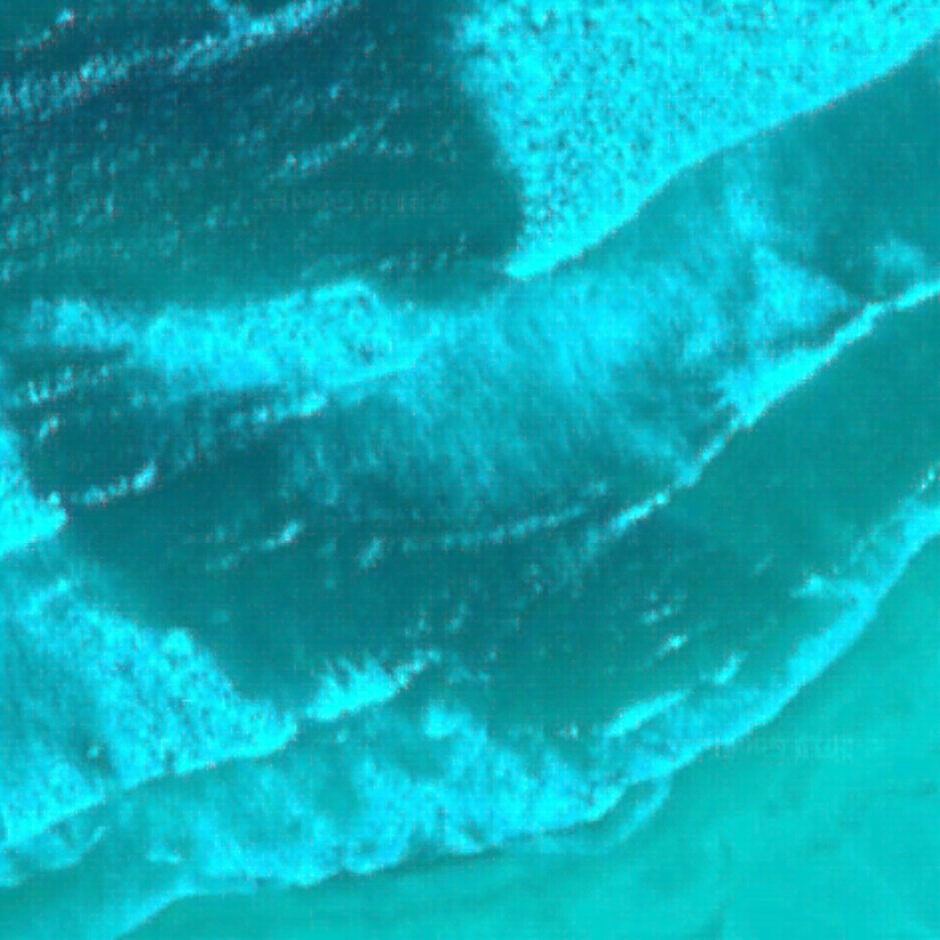rip_current: (59, 329, 734, 747)
